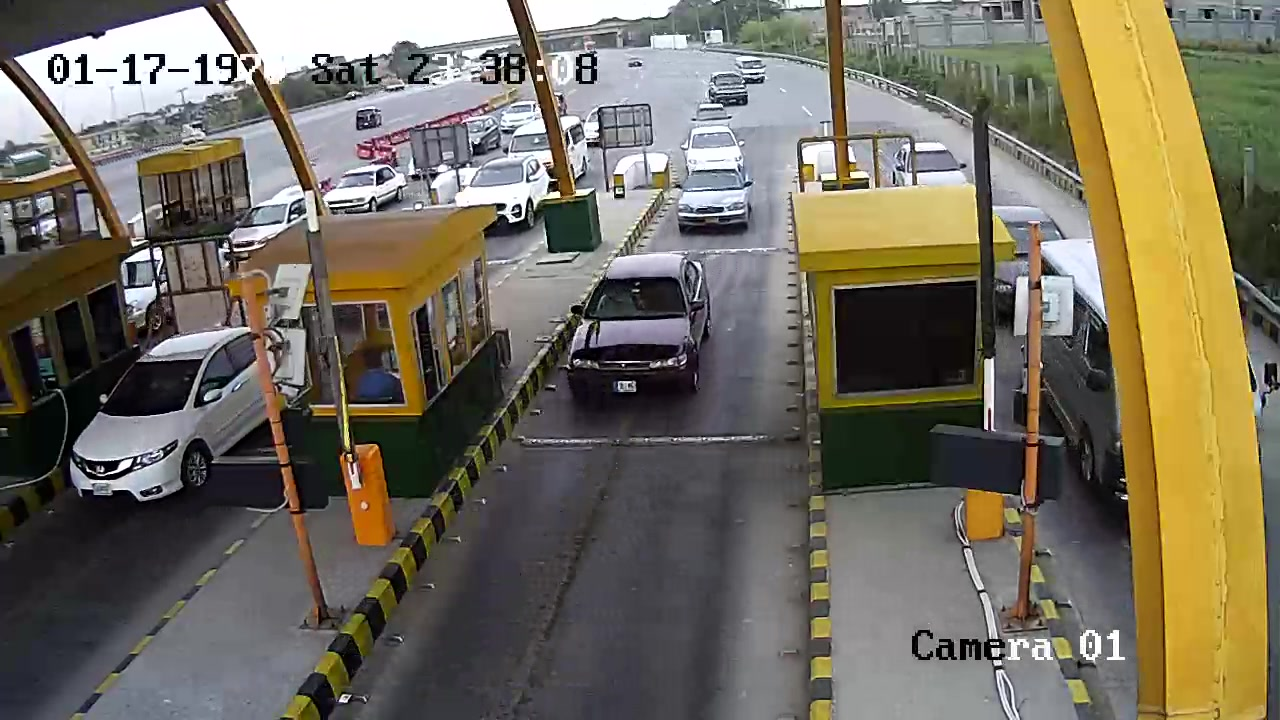F1: (546, 248, 721, 411)
